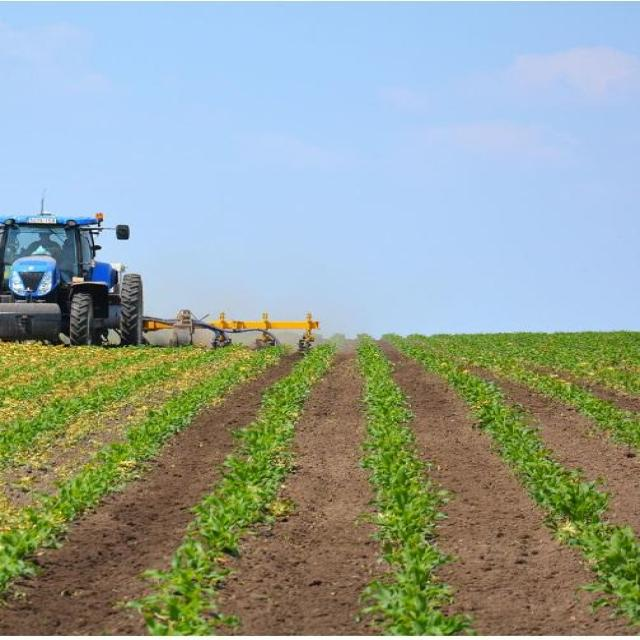row: (0, 349, 309, 637), (382, 338, 640, 639), (215, 351, 388, 637), (0, 349, 255, 541), (423, 342, 640, 552), (3, 348, 202, 428), (508, 356, 640, 423)
